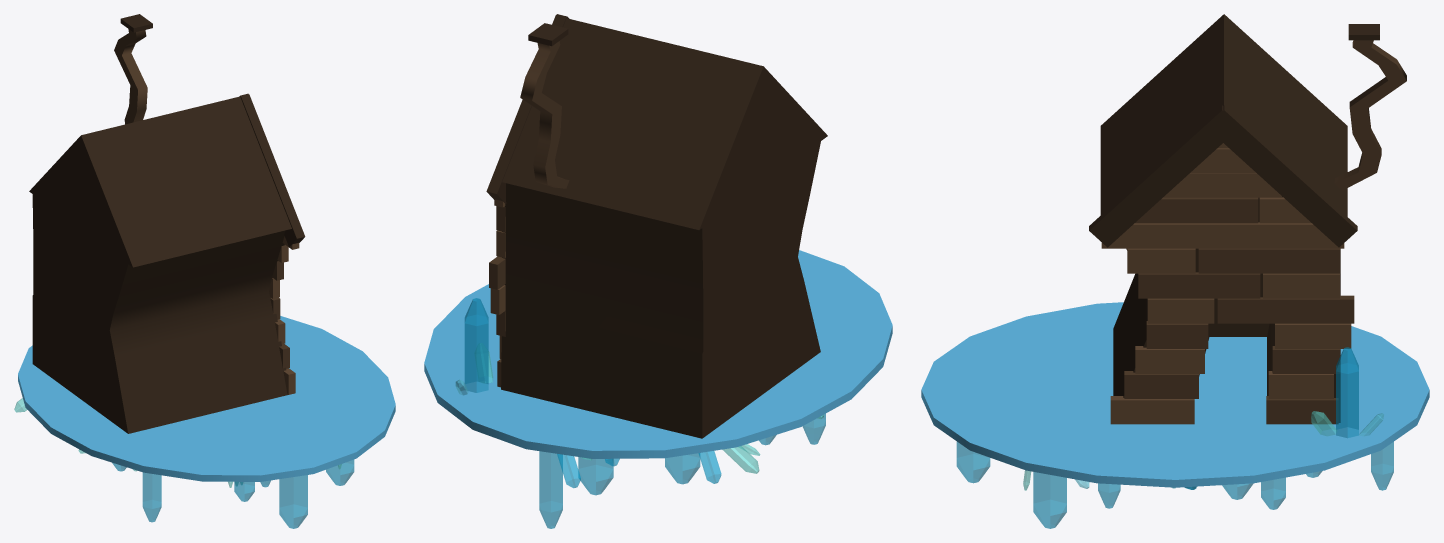
File: HousePlane.fbx
3 views of the same model, side by side, from view 1: azimuth 30°, elevation 25°; view 2: azimuth 150°, elevation 25°; view 3: azimuth 270°, elevation 25° (orthographic). The views are drawn at different scales.
Visible parts, largest first — view 1: pCube87, pCube37, pCylinder106, pCube59, pCube62, pCylinder170, pCylinder169, pCylinder153; view 2: pCube87, pCube37, pCylinder106, pCube62, pCylinder122, pCylinder174, pCube48, pCylinder171, pCylinder173, pCube61, pCylinder178; view 3: pCylinder106, pCube37, pCube74, pCube48, pCube59, pCube87, pCube76, pCube73, pCube62, pCube71, pCube69, pCube67 (+18 smaller).
Part boxes in pixels (x1,y1,x2,y2): pCube87: (32,194,287,433); pCube37: (29,96,291,267); pCylinder106: (18,316,395,481); pCube59: (240,94,305,247); pCube62: (114,29,147,124); pCylinder170: (279,475,307,528); pCylinder169: (142,472,161,522); pCylinder153: (326,459,354,485); pCube87: (501,141,820,438); pCube37: (502,18,827,229); pCylinder106: (424,250,892,458); pCube62: (520,41,569,188); pCylinder122: (464,298,488,392); pCylinder174: (539,451,562,528); pCube48: (486,15,566,203); pCylinder171: (578,457,613,495); pCylinder173: (665,453,700,484); pCube61: (528,23,568,46); pCylinder178: (722,446,759,473); pCylinder106: (921,302,1429,487); pCube37: (1100,14,1347,220); pCube74: (1101,222,1344,248); pCube48: (1206,105,1357,247); pCube59: (1089,105,1223,247); pCube87: (1113,220,1340,422); pCube76: (1198,248,1340,273); pCube73: (1217,295,1354,323); pCube62: (1334,40,1406,190); pCube71: (1138,272,1260,298); pCube69: (1135,197,1258,223); pCube67: (1163,173,1281,197).
Bounding box in the file's own units: 6.78 × 8.13 × 8.05.
